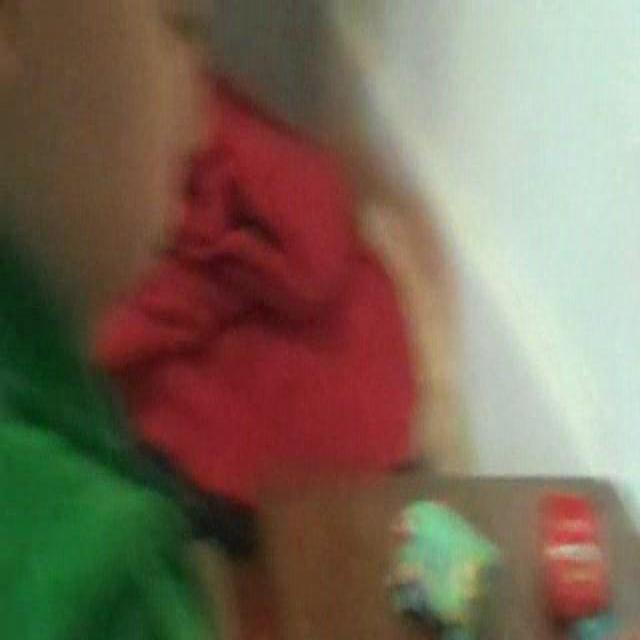other: (125, 115, 417, 468), (509, 461, 608, 613)
